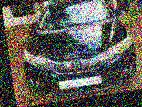car: (15, 0, 142, 99)
